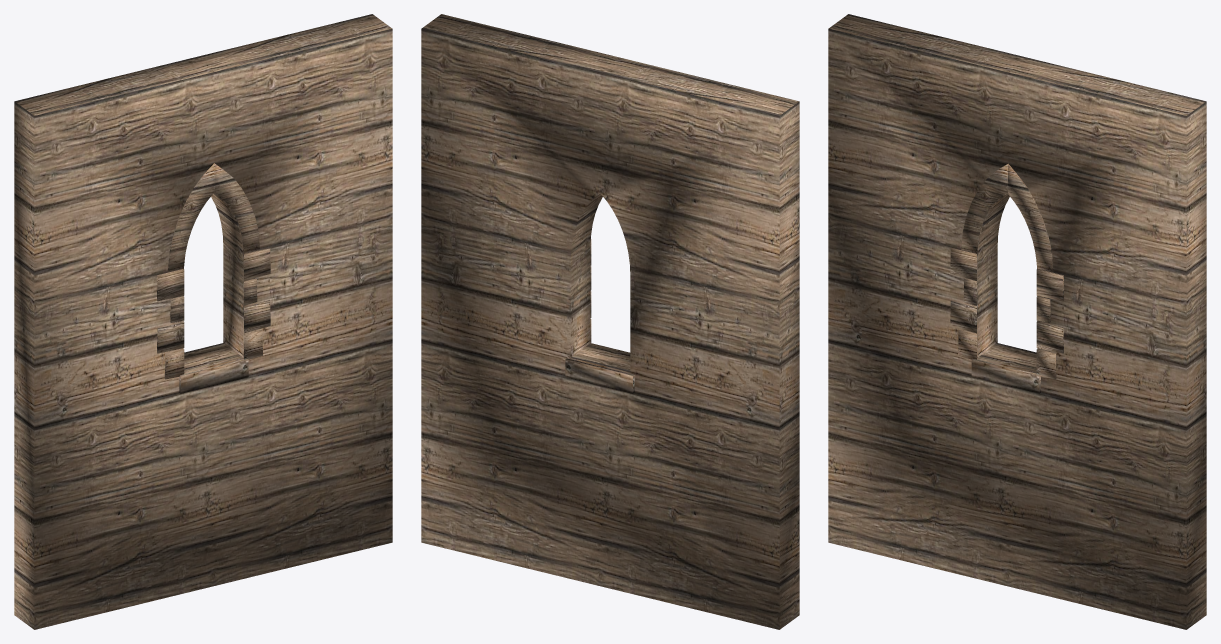
Rendered from wood window1.glb.
The picture shows the model from 3 angles, left to right: view 1: azimuth 30°, elevation 25°; view 2: azimuth 150°, elevation 25°; view 3: azimuth 330°, elevation 25°; orthographic projection.
Parts seen in each view (by area): view 1: Wall, WIndow - Arch.002; view 2: Wall, WIndow - Arch.002; view 3: Wall, WIndow - Arch.002.
Part boxes in pixels (x1=…): Wall, WIndow - Arch.002: x1=14, y1=14, x2=392, y2=629; Wall, WIndow - Arch.002: x1=421, y1=14, x2=799, y2=629; Wall, WIndow - Arch.002: x1=828, y1=14, x2=1206, y2=629.
Bounding box in the file's own units: 2 × 2.74 × 0.225.
Materials: 2 (2 with a texture image).
